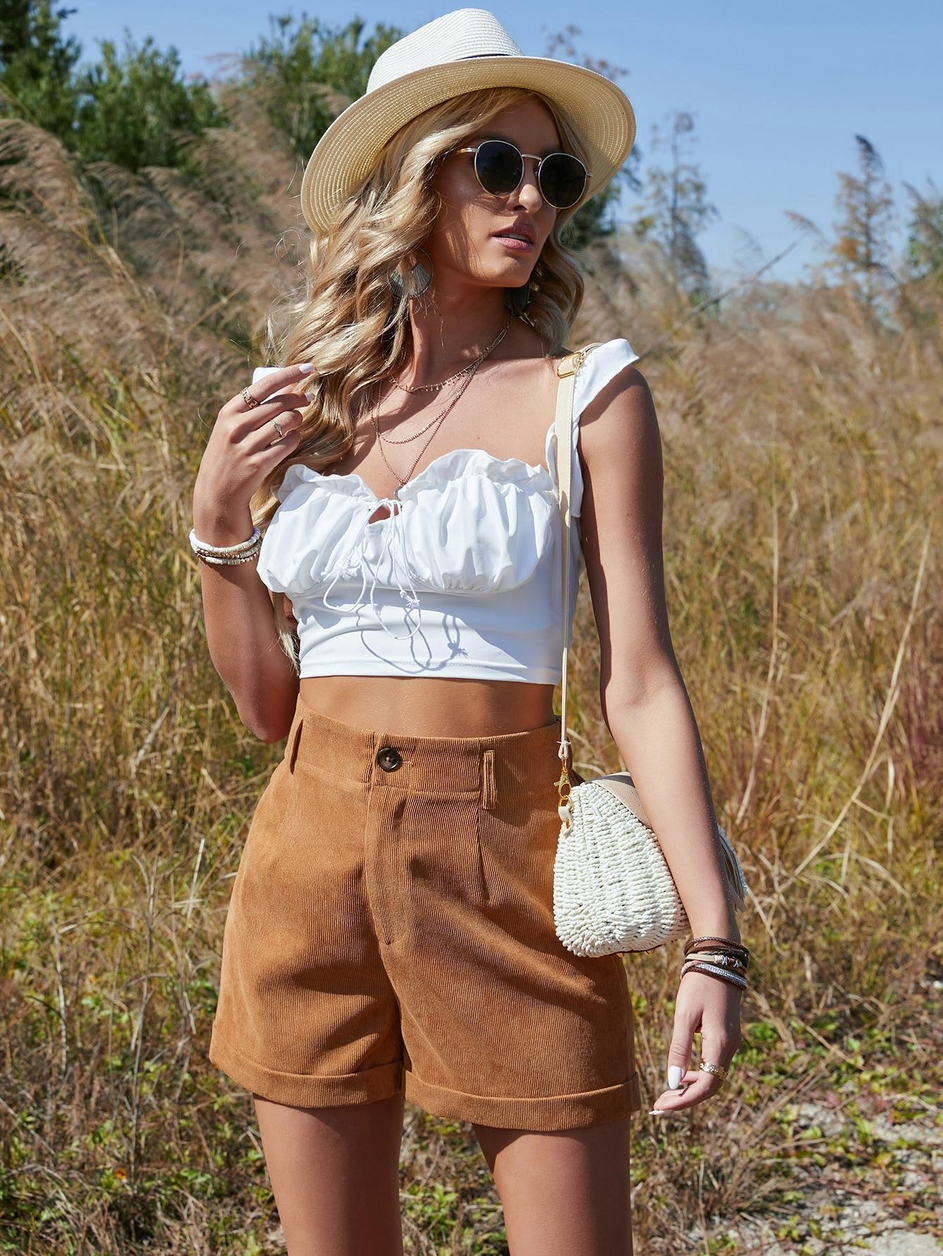Shorts: (215, 697, 648, 1139)
vest: (249, 329, 651, 683)
